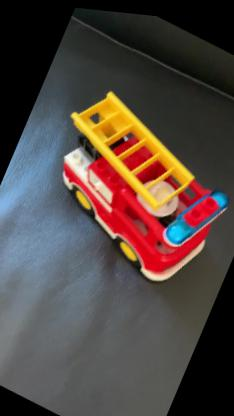lego fire truck: (25, 67, 233, 299)
